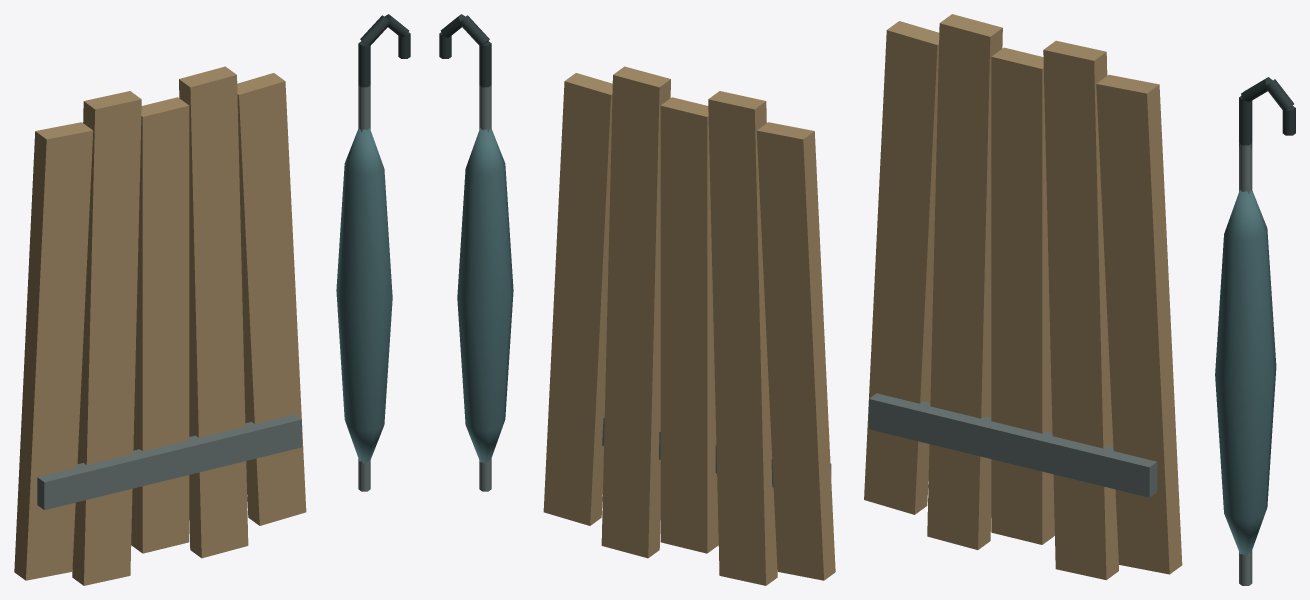
File: legacy-115.glb
3 renders of one model, left to right at view 1: azimuth 30°, elevation 25°; view 2: azimuth 150°, elevation 25°; view 3: azimuth 330°, elevation 25°, orthographic. The views are drawn at different scales.
Visible parts, largest first — view 1: part-1, part-4, part-2, part-3, part-5, part-7, part-6, part-8, part-9; view 2: part-1, part-4, part-2, part-3, part-5, part-7, part-8, part-9; view 3: part-5, part-2, part-4, part-1, part-3, part-7, part-6, part-8, part-9.
Boxes of the visible parts, x1,y1,x2,y2 form: part-1: (14,122,93,580); part-4: (179,66,248,558); part-2: (72,91,141,585); part-3: (131,97,189,553); part-5: (237,73,306,525); part-7: (336,128,392,463); part-6: (37,414,301,510); part-8: (358,85,370,491); part-9: (358,41,370,87); part-1: (756,122,835,580); part-4: (601,66,670,558); part-2: (708,91,777,585); part-3: (660,97,718,553); part-5: (543,73,612,525); part-7: (457,128,513,463); part-8: (479,85,491,491); part-9: (479,41,491,87); part-5: (1096,74,1182,574); part-2: (927,14,1002,549); part-4: (1043,40,1118,580); part-1: (864,21,939,514); part-3: (991,47,1054,544); part-7: (1215,189,1276,555); part-6: (869,393,1157,497); part-8: (1239,143,1252,585); part-9: (1239,96,1252,148).
Bounding box in the file's own units: 0.8763 × 1.06 × 0.12.
